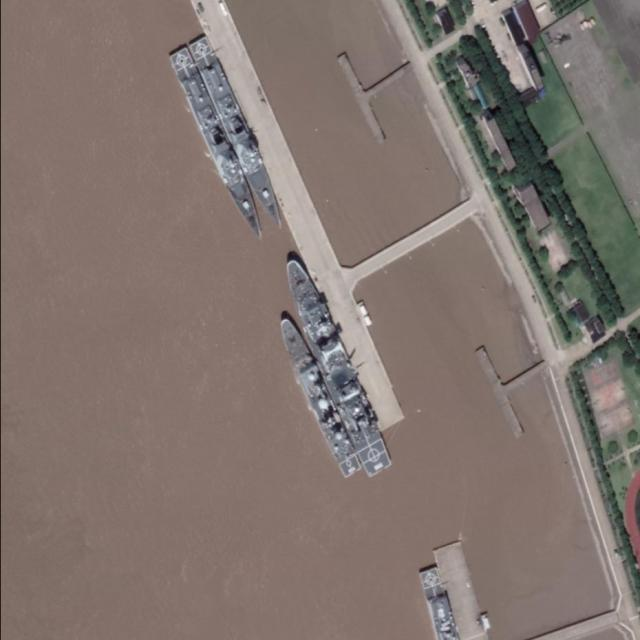Auxiliary Ships: (186, 32, 292, 234), (165, 43, 271, 245)
Destroyer: (273, 255, 396, 477)
Frigate: (273, 314, 364, 480)
